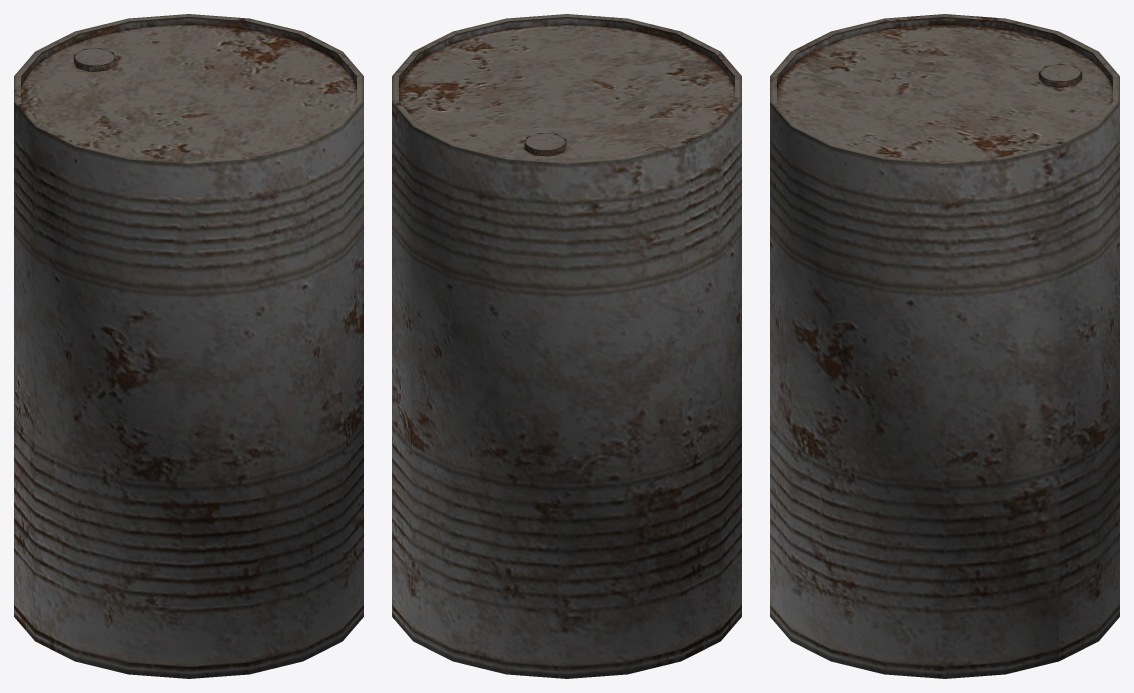
File: Cover_BcYt05.glb
The picture shows the model from 3 angles, left to right: view 1: azimuth 30°, elevation 25°; view 2: azimuth 150°, elevation 25°; view 3: azimuth 270°, elevation 25°; orthographic projection.
Visible parts, largest first — view 1: xiutz_bc_yt_05; view 2: xiutz_bc_yt_05; view 3: xiutz_bc_yt_05.
Part boxes in pixels (left/top/right/bottom): xiutz_bc_yt_05: left=14, top=14, right=363, bottom=678; xiutz_bc_yt_05: left=392, top=14, right=741, bottom=678; xiutz_bc_yt_05: left=770, top=14, right=1119, bottom=678.
Size of the model in its own units: 1.11 by 1.78 by 1.09.
Materials: 1 (1 with a texture image).
